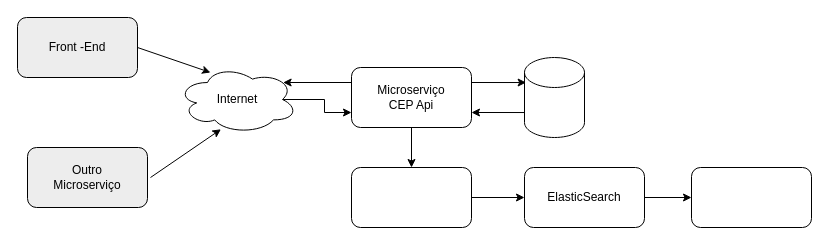
Image size: 829x245. Some labels were removed from this diagram. Each missing label, with the centre of its shape:
Kibana: the point at 751,197
LogStash: the point at 411,197
MySQL: the point at 554,97
